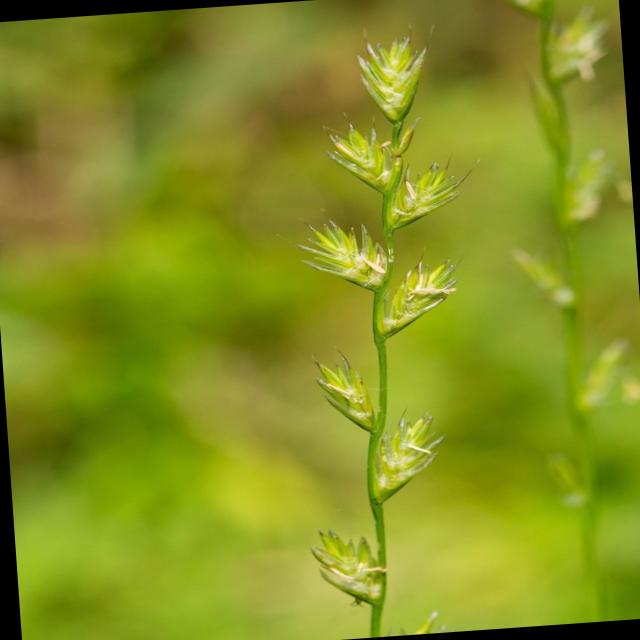Lolium: (267, 19, 508, 638)
